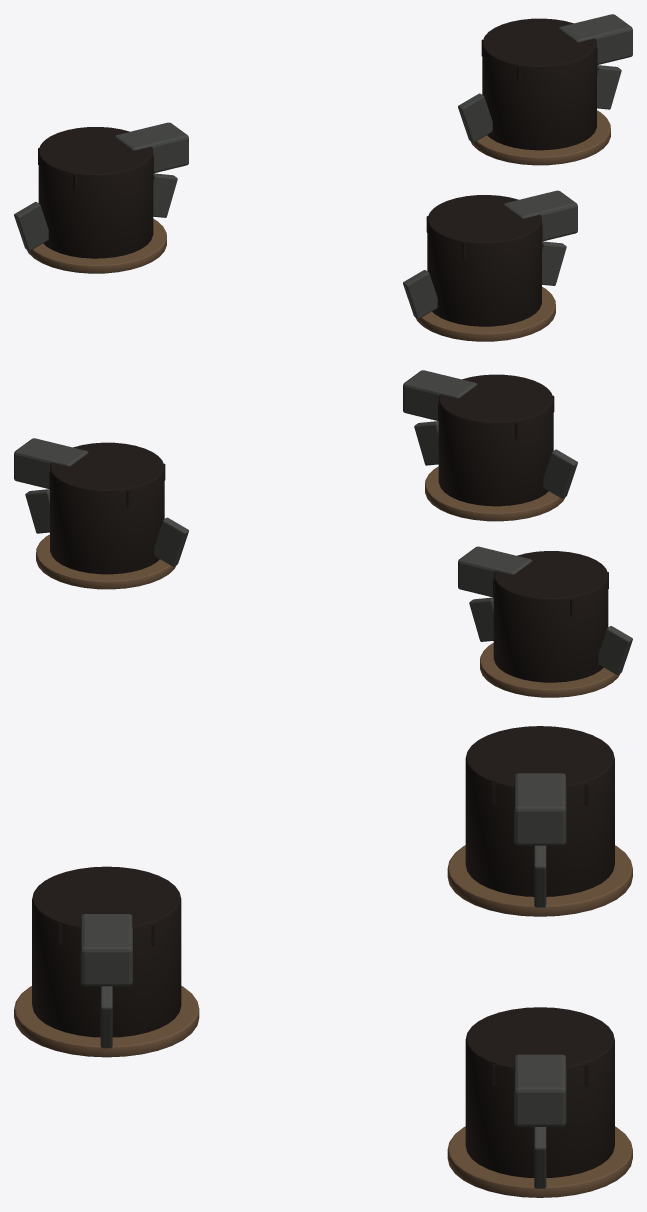
Rendered from ceiling_light_premium_triple.glb.
The picture shows the model from 3 angles, top to bottom: view 1: azimuth 30°, elevation 25°; view 2: azimuth 150°, elevation 25°; view 3: azimuth 270°, elevation 25°; orthographic projection. The views are drawn at different scales.
Visible parts, largest first — view 1: Downlight_01_RoughInHousing, Downlight_03_RoughInHousing, Downlight_02_RoughInHousing, BATCH_Root_Premium_DarkBronze, Downlight_02_JunctionBox, Downlight_03_JunctionBox, Downlight_01_JunctionBox, Downlight_02_SpringClip_Left, Downlight_01_SpringClip_Left, Downlight_03_SpringClip_Left, Downlight_01_SpringClip_Right, Downlight_03_SpringClip_Right (+1 smaller); view 2: Downlight_03_RoughInHousing, Downlight_01_RoughInHousing, Downlight_02_RoughInHousing, BATCH_Root_Premium_DarkBronze, Downlight_02_JunctionBox, Downlight_03_JunctionBox, Downlight_01_JunctionBox, Downlight_02_SpringClip_Left, Downlight_03_SpringClip_Left, Downlight_01_SpringClip_Left, Downlight_01_SpringClip_Right, Downlight_03_SpringClip_Right (+1 smaller); view 3: Downlight_01_RoughInHousing, Downlight_02_RoughInHousing, Downlight_03_RoughInHousing, BATCH_Root_Premium_DarkBronze, Downlight_01_JunctionBox, Downlight_02_JunctionBox, Downlight_03_JunctionBox, Downlight_01_SpringClip_Right, Downlight_03_SpringClip_Right, Downlight_02_SpringClip_Right.
Boxes of the visible parts, <box> form: Downlight_01_RoughInHousing: <box>38,127,153,258</box>; Downlight_03_RoughInHousing: <box>427,195,541,326</box>; Downlight_02_RoughInHousing: <box>482,18,596,150</box>; BATCH_Root_Premium_DarkBronze: <box>26,110,610,341</box>; Downlight_02_JunctionBox: <box>558,14,632,65</box>; Downlight_03_JunctionBox: <box>503,190,577,241</box>; Downlight_01_JunctionBox: <box>114,122,188,173</box>; Downlight_02_SpringClip_Left: <box>458,93,492,142</box>; Downlight_01_SpringClip_Left: <box>14,202,48,250</box>; Downlight_03_SpringClip_Left: <box>403,270,437,318</box>; Downlight_01_SpringClip_Right: <box>153,173,177,217</box>; Downlight_03_SpringClip_Right: <box>542,241,566,285</box>; Downlight_03_RoughInHousing: <box>438,374,553,506</box>; Downlight_01_RoughInHousing: <box>493,551,608,682</box>; Downlight_02_RoughInHousing: <box>50,442,164,574</box>; BATCH_Root_Premium_DarkBronze: <box>36,466,620,697</box>; Downlight_02_JunctionBox: <box>14,438,88,489</box>; Downlight_03_JunctionBox: <box>403,370,477,420</box>; Downlight_01_JunctionBox: <box>458,546,532,597</box>; Downlight_02_SpringClip_Left: <box>154,517,188,566</box>; Downlight_03_SpringClip_Left: <box>543,449,577,498</box>; Downlight_01_SpringClip_Left: <box>598,626,632,674</box>; Downlight_01_SpringClip_Right: <box>469,597,493,641</box>; Downlight_03_SpringClip_Right: <box>414,421,438,465</box>; Downlight_01_RoughInHousing: <box>465,726,614,896</box>; Downlight_02_RoughInHousing: <box>465,1007,614,1177</box>; Downlight_03_RoughInHousing: <box>32,866,181,1037</box>; BATCH_Root_Premium_DarkBronze: <box>14,845,632,1197</box>; Downlight_01_JunctionBox: <box>514,773,566,845</box>; Downlight_02_JunctionBox: <box>514,1054,566,1126</box>; Downlight_03_JunctionBox: <box>80,914,132,986</box>; Downlight_01_SpringClip_Right: <box>534,845,546,907</box>; Downlight_03_SpringClip_Right: <box>100,986,112,1048</box>; Downlight_02_SpringClip_Right: <box>534,1127,546,1188</box>.
Size of what is drawn, in the model's own units: 0.9047 by 0.1497 by 0.614.
